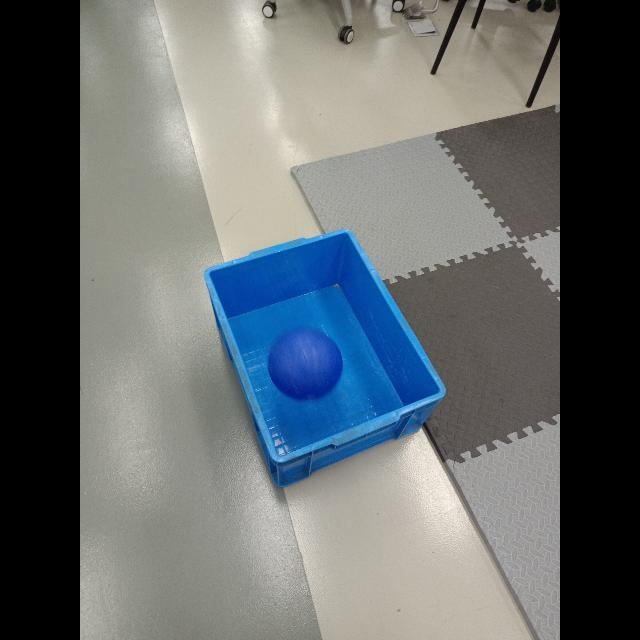B: (268, 329, 342, 401)
